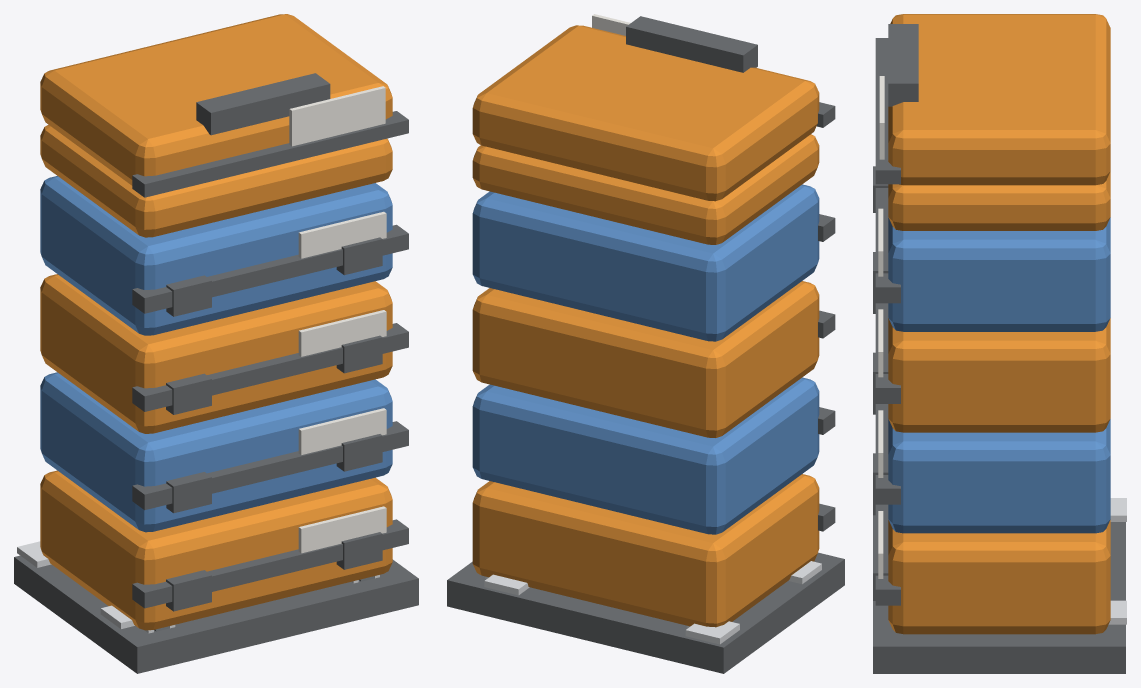
Rendered from tool-hire-depot-and-plant-yard-tool-hire-depot-and-pla-56c5f336__35309.glb.
3 renders of one model, left to right at view 1: azimuth 30°, elevation 25°; view 2: azimuth 150°, elevation 25°; view 3: azimuth 270°, elevation 25°, orthographic. The views are drawn at different scales.
Parts seen in each view (by area): view 1: tool-hire-depot-and-plant-yard-cordless-tool-case-stack, case-lid/orange, case-lid/charcoal, case-lid/cream; view 2: tool-hire-depot-and-plant-yard-cordless-tool-case-stack, case-lid/orange, case-lid/charcoal; view 3: tool-hire-depot-and-plant-yard-cordless-tool-case-stack, case-lid/orange, case-lid/charcoal, case-lid/cream.
Part boxes in pixels (<box>): tool-hire-depot-and-plant-yard-cordless-tool-case-stack: <box>14,125,418,673</box>; case-lid/orange: <box>40,14,392,185</box>; case-lid/charcoal: <box>132,73,408,197</box>; case-lid/cream: <box>289,86,385,146</box>; tool-hire-depot-and-plant-yard-cordless-tool-case-stack: <box>447,134,844,673</box>; case-lid/orange: <box>472,25,819,201</box>; case-lid/charcoal: <box>626,16,835,127</box>; tool-hire-depot-and-plant-yard-cordless-tool-case-stack: <box>873,166,1126,673</box>; case-lid/orange: <box>888,14,1110,185</box>; case-lid/charcoal: <box>875,24,918,184</box>; case-lid/cream: <box>879,76,884,159</box>.
Size of the model in its own units: 0.66 by 1.2 by 0.502.
